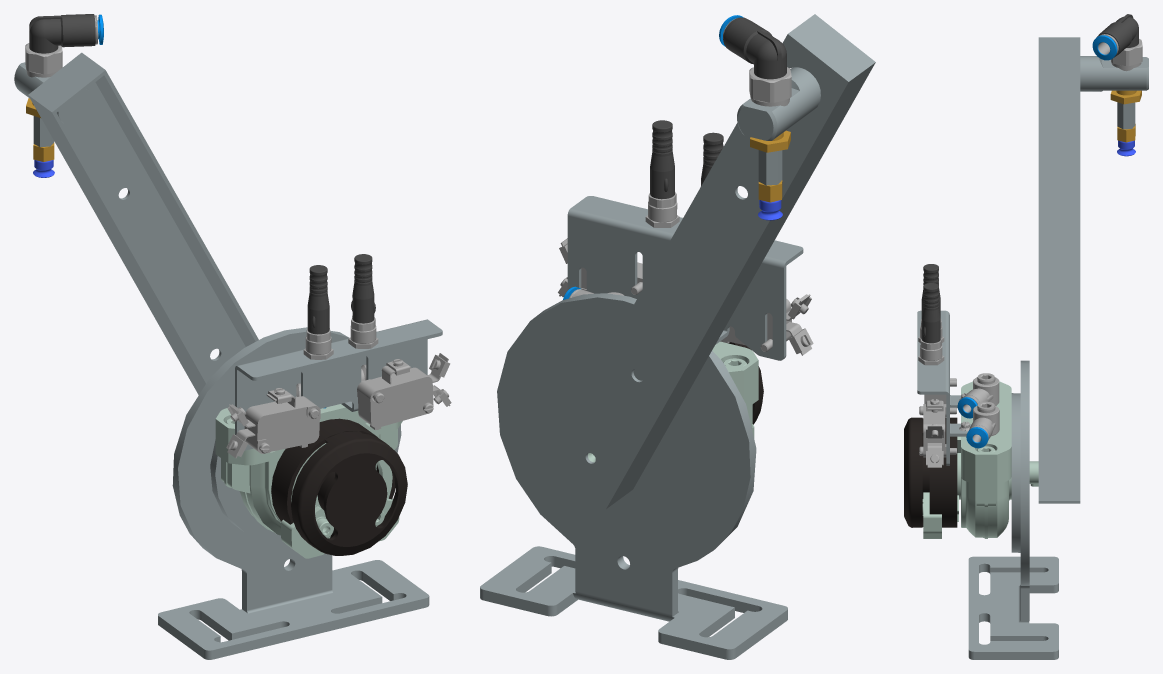
File: Schwenkenarm_neu2.fbx
3 views of the same model, side by side, from view 1: azimuth 30°, elevation 25°; view 2: azimuth 150°, elevation 25°; view 3: azimuth 270°, elevation 25° (orthographic). The views are drawn at different scales.
Parts seen in each view (by area): view 1: et_3985_Schwenkarm_Flansch_body1_2, et_3986_Schwenkarm_Arm_body1_2, et_3982_Schwenkarm_Kappe_body1_2, et_3978_Schwenkarm_Endschlaterflansch_body1_2, et_3980_Schwenkarm_Geh_body1_2, et_3977_Schwenkarm_Endschlater_body1_3, et_3977_Schwenkarm_Endschlater_body1_4, et_3974_Schwenkarm_Steckverschraubung_body1_2, et_3976_Schwenkarm_Stecker_body1_4, et_3976_Schwenkarm_Stecker_body1_3, et_3984_Schwenkarm_Zylinder_body1_2, et_3983_Schwenkarm_Schalter_body1_4; view 2: et_3985_Schwenkarm_Flansch_body1_2, et_3986_Schwenkarm_Arm_body1_2, et_3978_Schwenkarm_Endschlaterflansch_body1_2, et_3974_Schwenkarm_Steckverschraubung_body1_2, et_3984_Schwenkarm_Zylinder_body1_2, et_3976_Schwenkarm_Stecker_body1_4, et_3980_Schwenkarm_Geh_body1_2, et_3977_Schwenkarm_Endschlater_body1_4, et_3975_Schwenkarm_Sechskant_body4_2, et_3976_Schwenkarm_Stecker_body1_3; view 3: et_3986_Schwenkarm_Arm_body1_2, et_3985_Schwenkarm_Flansch_body1_2, et_3980_Schwenkarm_Geh_body1_2, et_3982_Schwenkarm_Kappe_body1_2, et_3978_Schwenkarm_Endschlaterflansch_body1_2, et_3984_Schwenkarm_Zylinder_body1_2, et_3974_Schwenkarm_Steckverschraubung_body1_2, et_3977_Schwenkarm_Endschlater_body1_3, et_3976_Schwenkarm_Stecker_body1_4, et_3971_Schwenkarm_QSLV_body1_4, et_3971_Schwenkarm_QSLV_body1_3, et_3983_Schwenkarm_Schalter_body1_3 (+3 smaller).
Part boxes in pixels (bbox=[...]): et_3985_Schwenkarm_Flansch_body1_2: bbox=[158, 327, 429, 659]; et_3986_Schwenkarm_Arm_body1_2: bbox=[28, 52, 258, 394]; et_3982_Schwenkarm_Kappe_body1_2: bbox=[271, 418, 407, 555]; et_3978_Schwenkarm_Endschlaterflansch_body1_2: bbox=[235, 319, 442, 450]; et_3980_Schwenkarm_Geh_body1_2: bbox=[215, 404, 402, 535]; et_3977_Schwenkarm_Endschlater_body1_3: bbox=[357, 353, 451, 430]; et_3977_Schwenkarm_Endschlater_body1_4: bbox=[226, 388, 320, 458]; et_3974_Schwenkarm_Steckverschraubung_body1_2: bbox=[25, 14, 103, 77]; et_3976_Schwenkarm_Stecker_body1_4: bbox=[350, 254, 376, 343]; et_3976_Schwenkarm_Stecker_body1_3: bbox=[305, 265, 331, 354]; et_3984_Schwenkarm_Zylinder_body1_2: bbox=[14, 62, 94, 125]; et_3983_Schwenkarm_Schalter_body1_4: bbox=[281, 506, 333, 558]; et_3985_Schwenkarm_Flansch_body1_2: bbox=[480, 293, 787, 659]; et_3986_Schwenkarm_Arm_body1_2: bbox=[545, 14, 875, 509]; et_3978_Schwenkarm_Endschlaterflansch_body1_2: bbox=[567, 196, 803, 360]; et_3974_Schwenkarm_Steckverschraubung_body1_2: bbox=[719, 15, 791, 106]; et_3984_Schwenkarm_Zylinder_body1_2: bbox=[737, 67, 820, 140]; et_3976_Schwenkarm_Stecker_body1_4: bbox=[648, 120, 677, 222]; et_3980_Schwenkarm_Geh_body1_2: bbox=[712, 341, 758, 428]; et_3977_Schwenkarm_Endschlater_body1_4: bbox=[721, 294, 813, 355]; et_3975_Schwenkarm_Sechskant_body4_2: bbox=[758, 150, 782, 185]; et_3976_Schwenkarm_Stecker_body1_3: bbox=[701, 132, 723, 185]; et_3986_Schwenkarm_Arm_body1_2: bbox=[1038, 37, 1080, 503]; et_3985_Schwenkarm_Flansch_body1_2: bbox=[968, 360, 1058, 659]; et_3980_Schwenkarm_Geh_body1_2: bbox=[957, 381, 1011, 538]; et_3982_Schwenkarm_Kappe_body1_2: bbox=[904, 417, 957, 527]; et_3978_Schwenkarm_Endschlaterflansch_body1_2: bbox=[917, 310, 971, 465]; et_3984_Schwenkarm_Zylinder_body1_2: bbox=[1080, 56, 1148, 91]; et_3974_Schwenkarm_Steckverschraubung_body1_2: bbox=[1092, 14, 1142, 71]; et_3977_Schwenkarm_Endschlater_body1_3: bbox=[923, 399, 946, 467]; et_3976_Schwenkarm_Stecker_body1_4: bbox=[920, 283, 942, 360]; et_3971_Schwenkarm_QSLV_body1_4: bbox=[966, 401, 999, 448]; et_3971_Schwenkarm_QSLV_body1_3: bbox=[957, 373, 999, 418]; et_3983_Schwenkarm_Schalter_body1_3: bbox=[922, 492, 958, 538].
Size of the model in its own units: 15.13 by 25.36 by 10.87.
